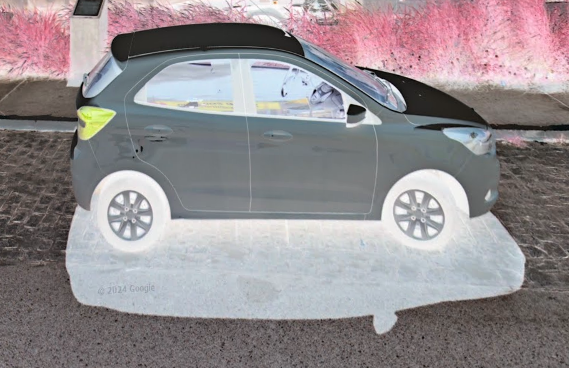car: (66, 15, 505, 253)
